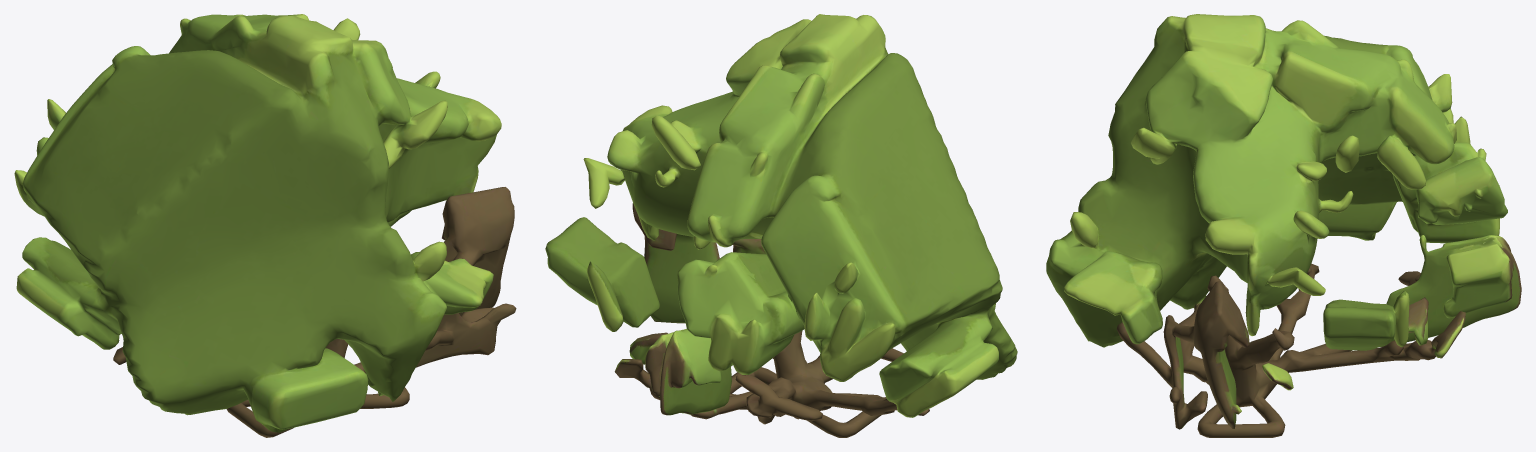
File: deco_tree.fbx
The picture shows the model from 3 angles, left to right: view 1: azimuth 30°, elevation 25°; view 2: azimuth 150°, elevation 25°; view 3: azimuth 270°, elevation 25°; orthographic projection. The views are drawn at different scales.
Visible parts, largest first — view 1: tripo_node_08cdef18-f400-4969-a62d-dce83af71ec6; view 2: tripo_node_08cdef18-f400-4969-a62d-dce83af71ec6; view 3: tripo_node_08cdef18-f400-4969-a62d-dce83af71ec6.
Boxes of the visible parts, <box> form: tripo_node_08cdef18-f400-4969-a62d-dce83af71ec6: <box>14,14,516,437</box>; tripo_node_08cdef18-f400-4969-a62d-dce83af71ec6: <box>545,14,1017,437</box>; tripo_node_08cdef18-f400-4969-a62d-dce83af71ec6: <box>1046,14,1521,437</box>.
Size of the model in its own units: 97.35 by 86.16 by 98.02.
Materials: 1 (1 with a texture image).
